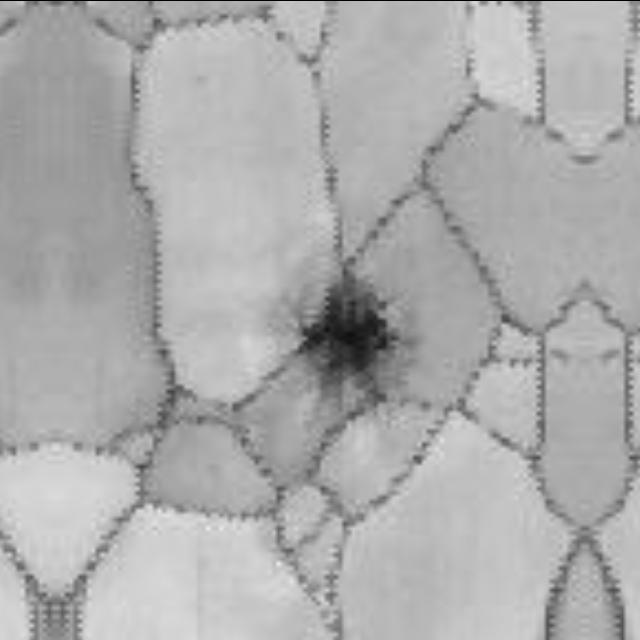good_void: (287, 254, 413, 406)
